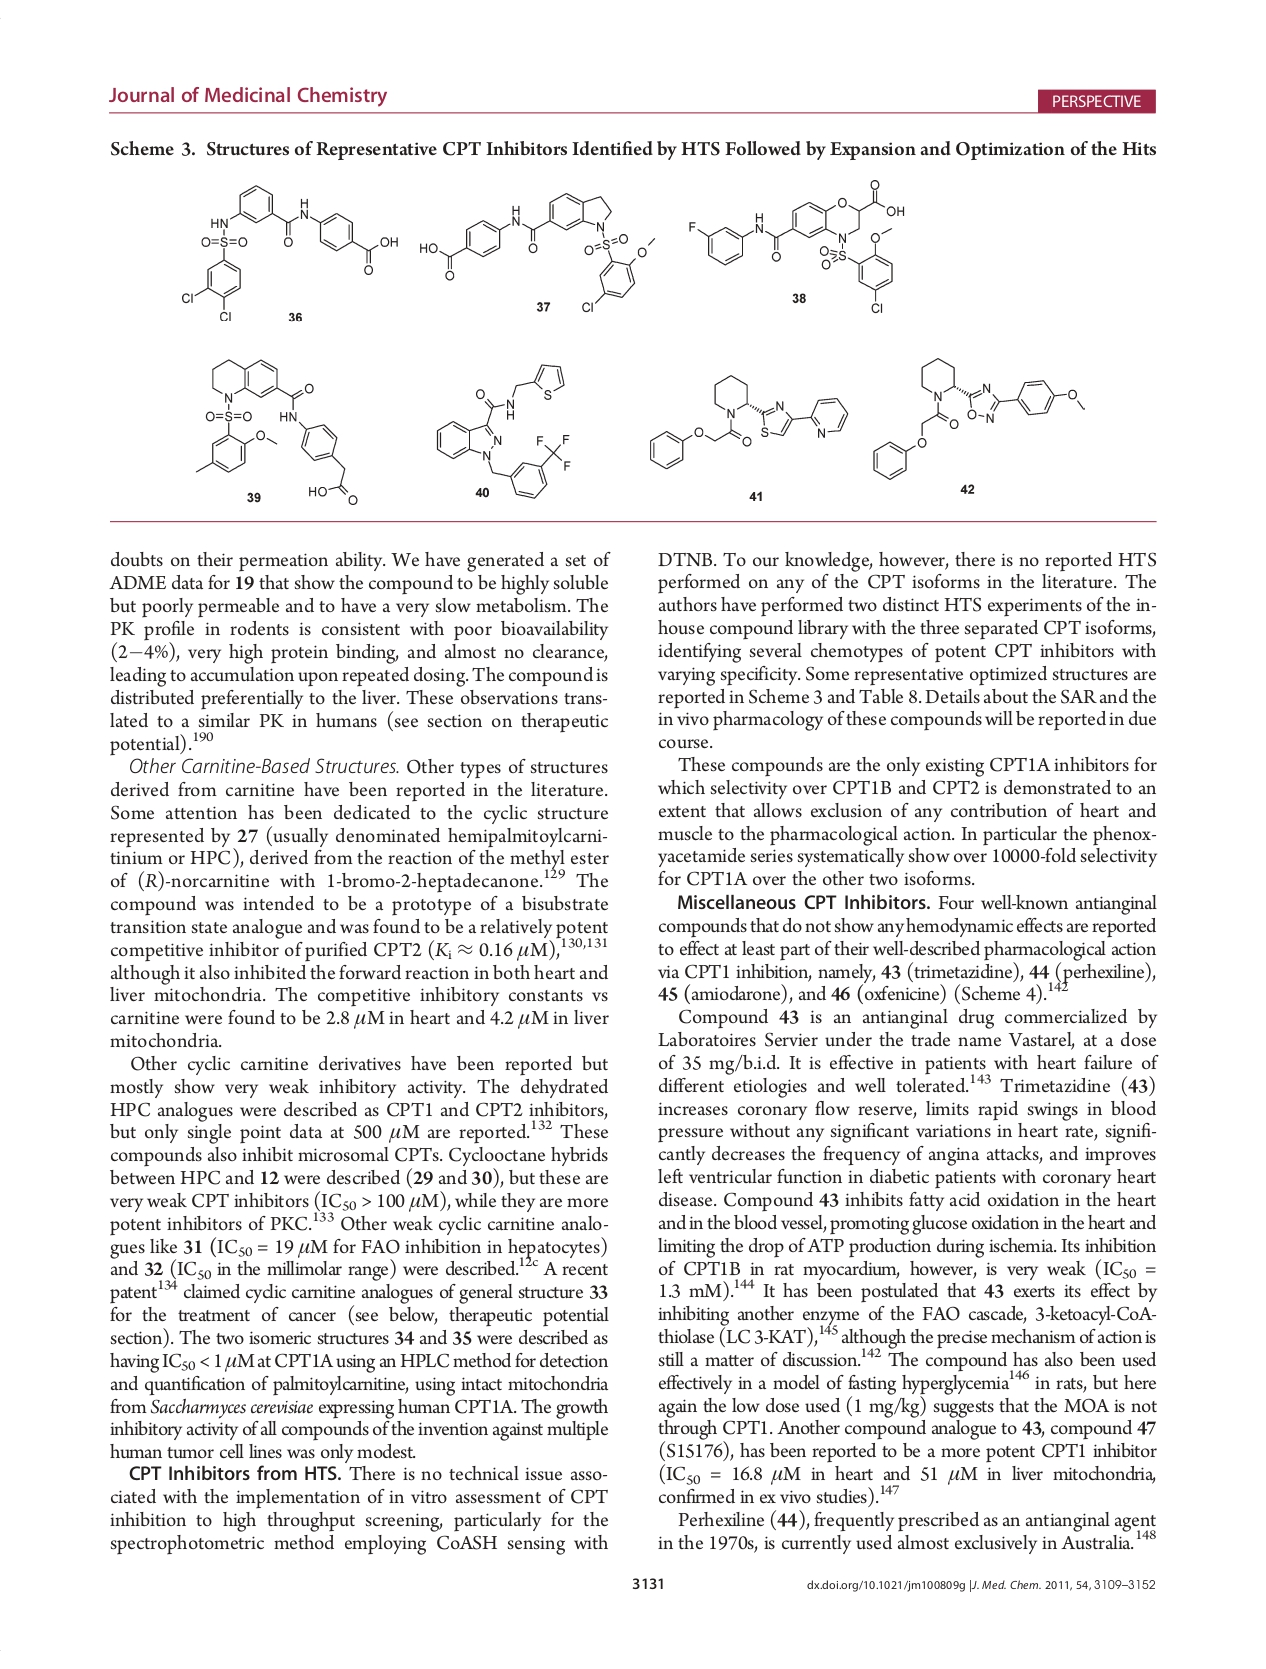exist_molecular: (685, 176, 906, 318), (184, 182, 402, 324), (418, 189, 662, 315), (870, 356, 1086, 481), (193, 352, 360, 507), (434, 359, 574, 500), (648, 372, 848, 469)
